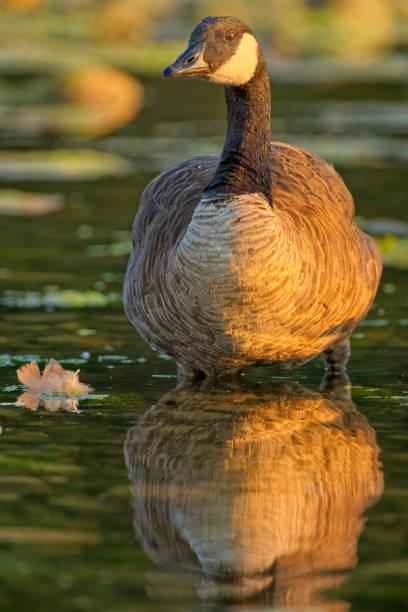Canadian-Goose: (124, 13, 381, 383)
